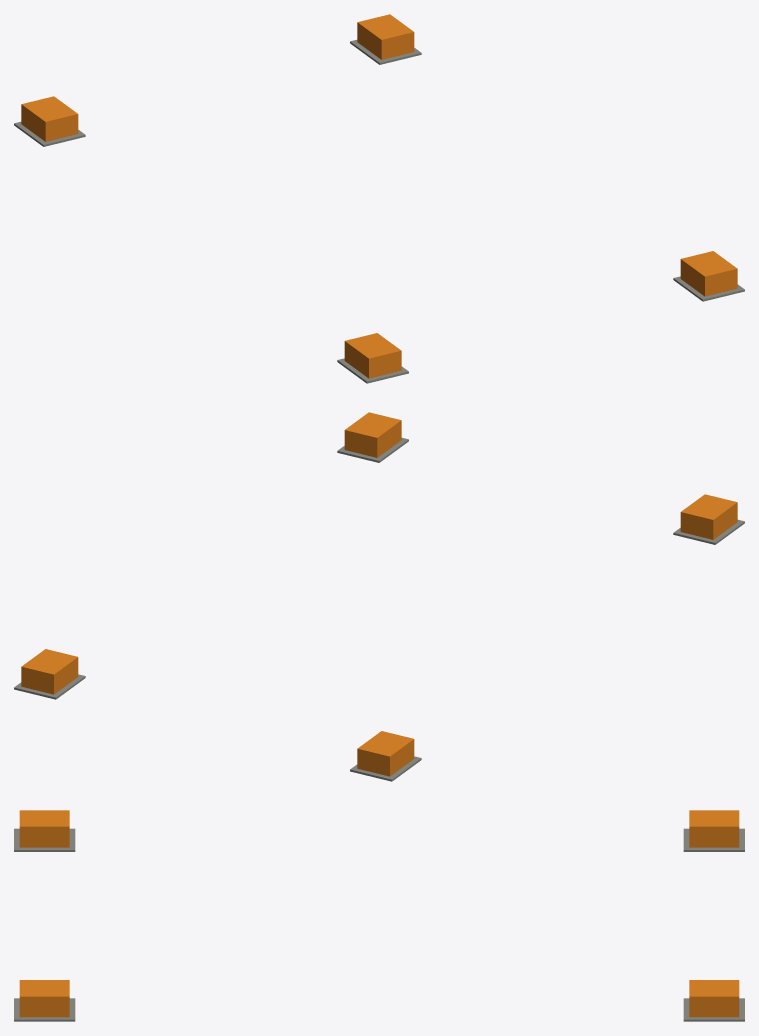
Rendered from bunk500_mounts.obj.
3 renders of one model, top to bottom at view 1: azimuth 30°, elevation 25°; view 2: azimuth 150°, elevation 25°; view 3: azimuth 270°, elevation 25°, orthographic. The views are drawn at different scales.
Parts seen in each view (by area): view 1: bunk500_mounts; view 2: bunk500_mounts; view 3: bunk500_mounts.
Part boxes in pixels (x1,y1,x2,y2): bunk500_mounts: [14, 14, 744, 383]; bunk500_mounts: [14, 412, 744, 781]; bunk500_mounts: [14, 810, 744, 1021].
Size of the model in its own units: 8.1 by 0.45 by 13.1.
